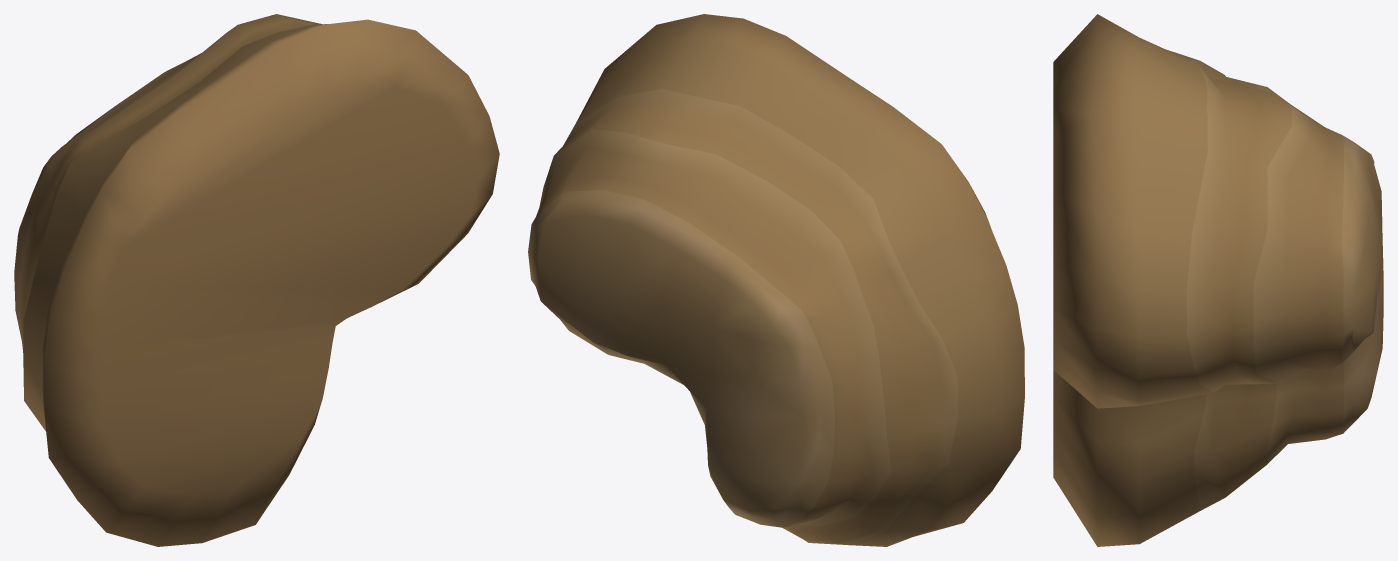
The model's file is SandHill.002.glb.
The picture shows the model from 3 angles, left to right: view 1: azimuth 30°, elevation 25°; view 2: azimuth 150°, elevation 25°; view 3: azimuth 270°, elevation 25°; orthographic projection. The views are drawn at different scales.
Visible parts, largest first — view 1: SandHill.002; view 2: SandHill.002; view 3: SandHill.002.
Boxes of the visible parts, x1=… form: SandHill.002: x1=14, y1=14, x2=499, y2=546; SandHill.002: x1=528, y1=14, x2=1024, y2=546; SandHill.002: x1=1053, y1=14, x2=1383, y2=546.
Bounding box in the file's own units: 7185 × 7364 × 3974.
